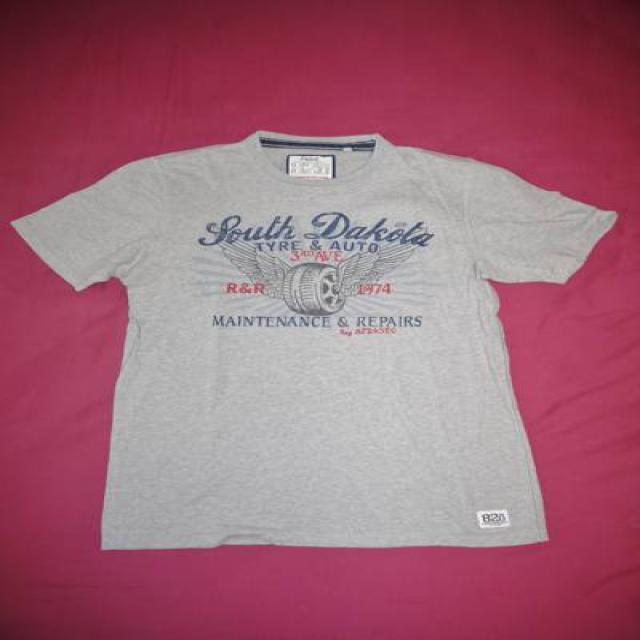shirt: (12, 130, 617, 549)
